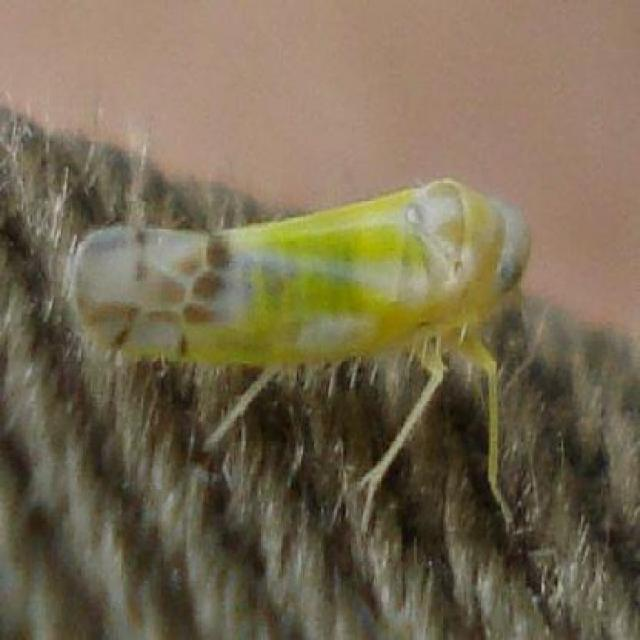green-leafhopper: (69, 179, 534, 366)
